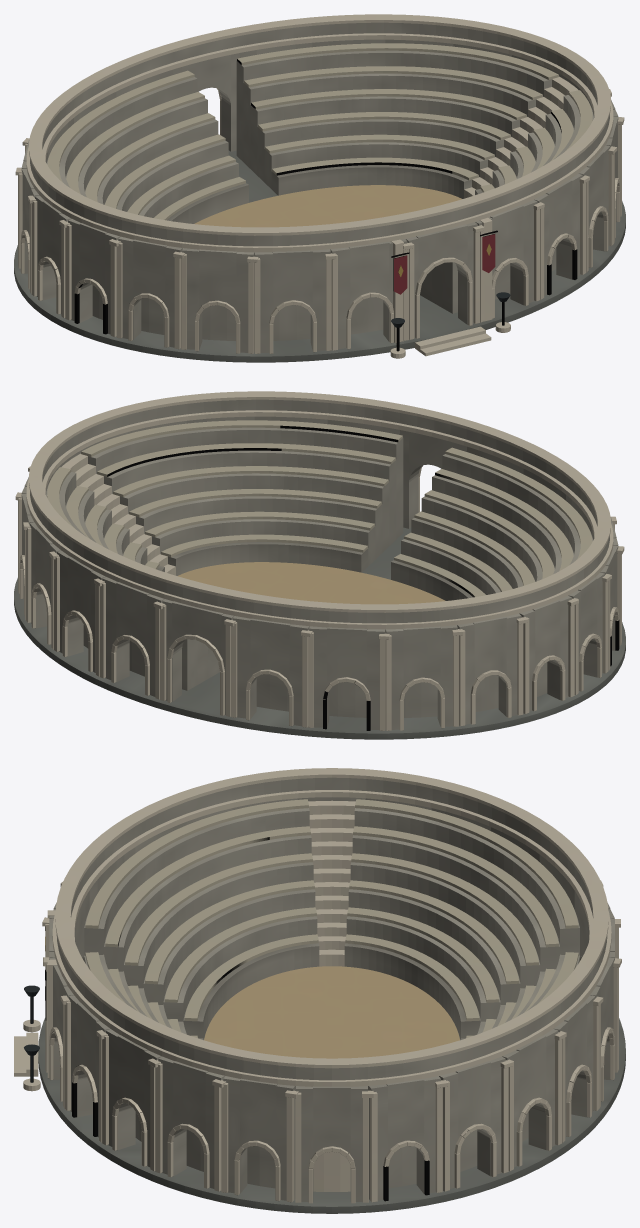
Rendered from Arena.fbx.
3 views of the same model, one above another, from view 1: azimuth 30°, elevation 25°; view 2: azimuth 150°, elevation 25°; view 3: azimuth 270°, elevation 25° (orthographic). The views are drawn at different scales.
Parts seen in each view (by area): view 1: Arena.001; view 2: Arena.001; view 3: Arena.001.
Part boxes in pixels (x1,y1,x2,y2): Arena.001: (14, 14, 625, 362); Arena.001: (14, 391, 625, 739); Arena.001: (14, 768, 625, 1213).
Bounding box in the file's own units: 29.6 × 6.27 × 24.57.
